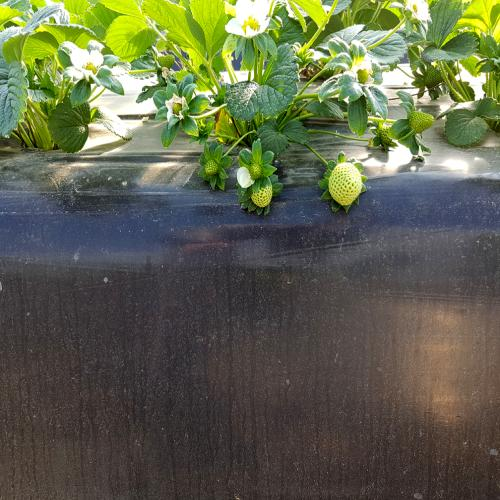unripe: (328, 161, 368, 215)
